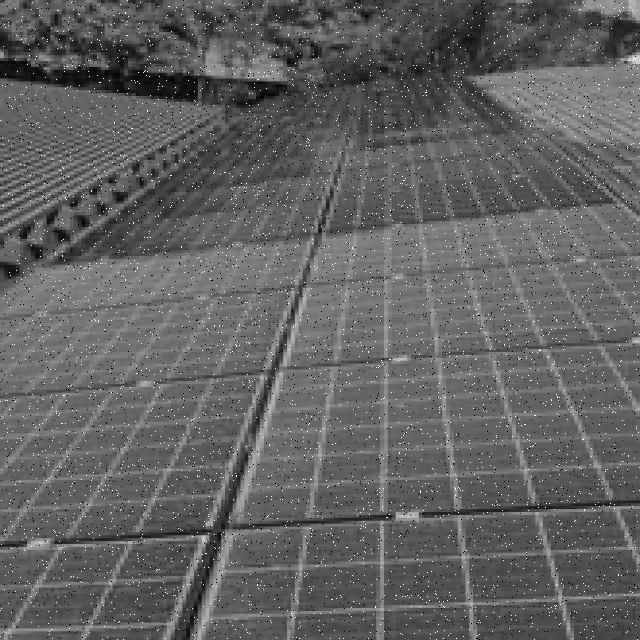dusty: (0, 62, 640, 636)
